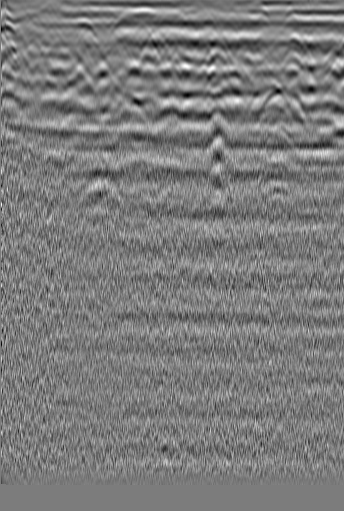가스: (260, 177, 292, 205)
상수: (0, 23, 20, 43)
오수: (286, 31, 306, 51)
우수: (156, 41, 176, 61)
